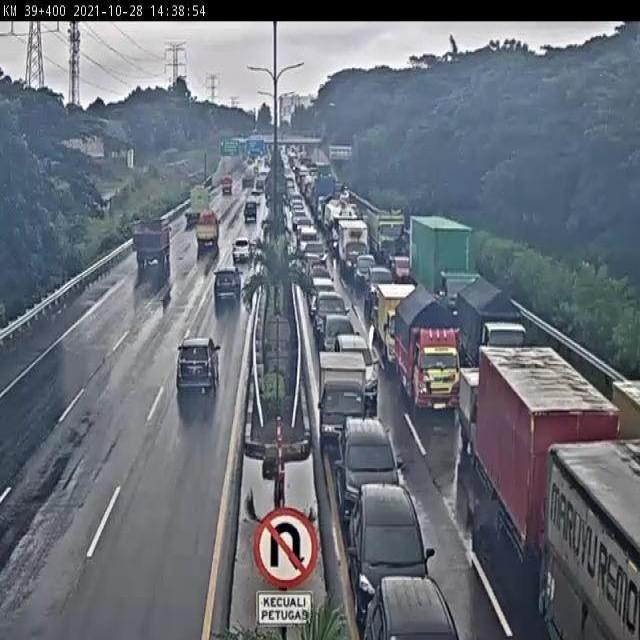big truck: (479, 345, 626, 595), (405, 212, 477, 329), (181, 183, 210, 232), (240, 168, 256, 193)
car: (349, 486, 436, 618), (335, 418, 399, 530), (363, 577, 460, 640), (335, 336, 380, 403), (175, 336, 222, 396), (319, 315, 360, 369), (312, 290, 350, 342), (213, 265, 243, 307), (367, 265, 395, 308), (309, 276, 334, 316), (300, 252, 323, 295), (297, 226, 319, 262), (229, 238, 254, 266), (355, 255, 376, 288), (246, 194, 262, 214), (253, 179, 265, 193)
small truck: (393, 287, 462, 416), (457, 274, 527, 378), (458, 365, 521, 468), (317, 348, 369, 449), (377, 283, 420, 369), (129, 218, 169, 274), (339, 220, 369, 276), (194, 209, 221, 251), (242, 199, 259, 225), (220, 176, 233, 195)
